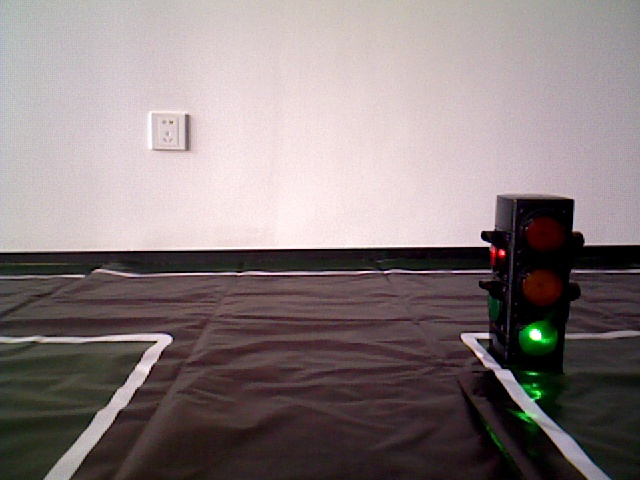green: (496, 202, 568, 360)
